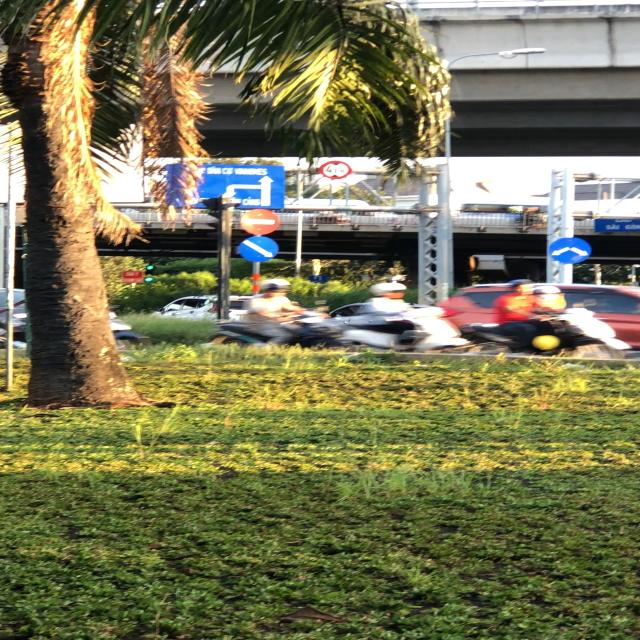Bien bao cam di nguoc chieu: (237, 207, 286, 234)
Bien bao han che chieu cao: (318, 159, 352, 181)
Bien bao huong phai di vong chuong ngai vat: (542, 234, 598, 265), (237, 235, 284, 265)
